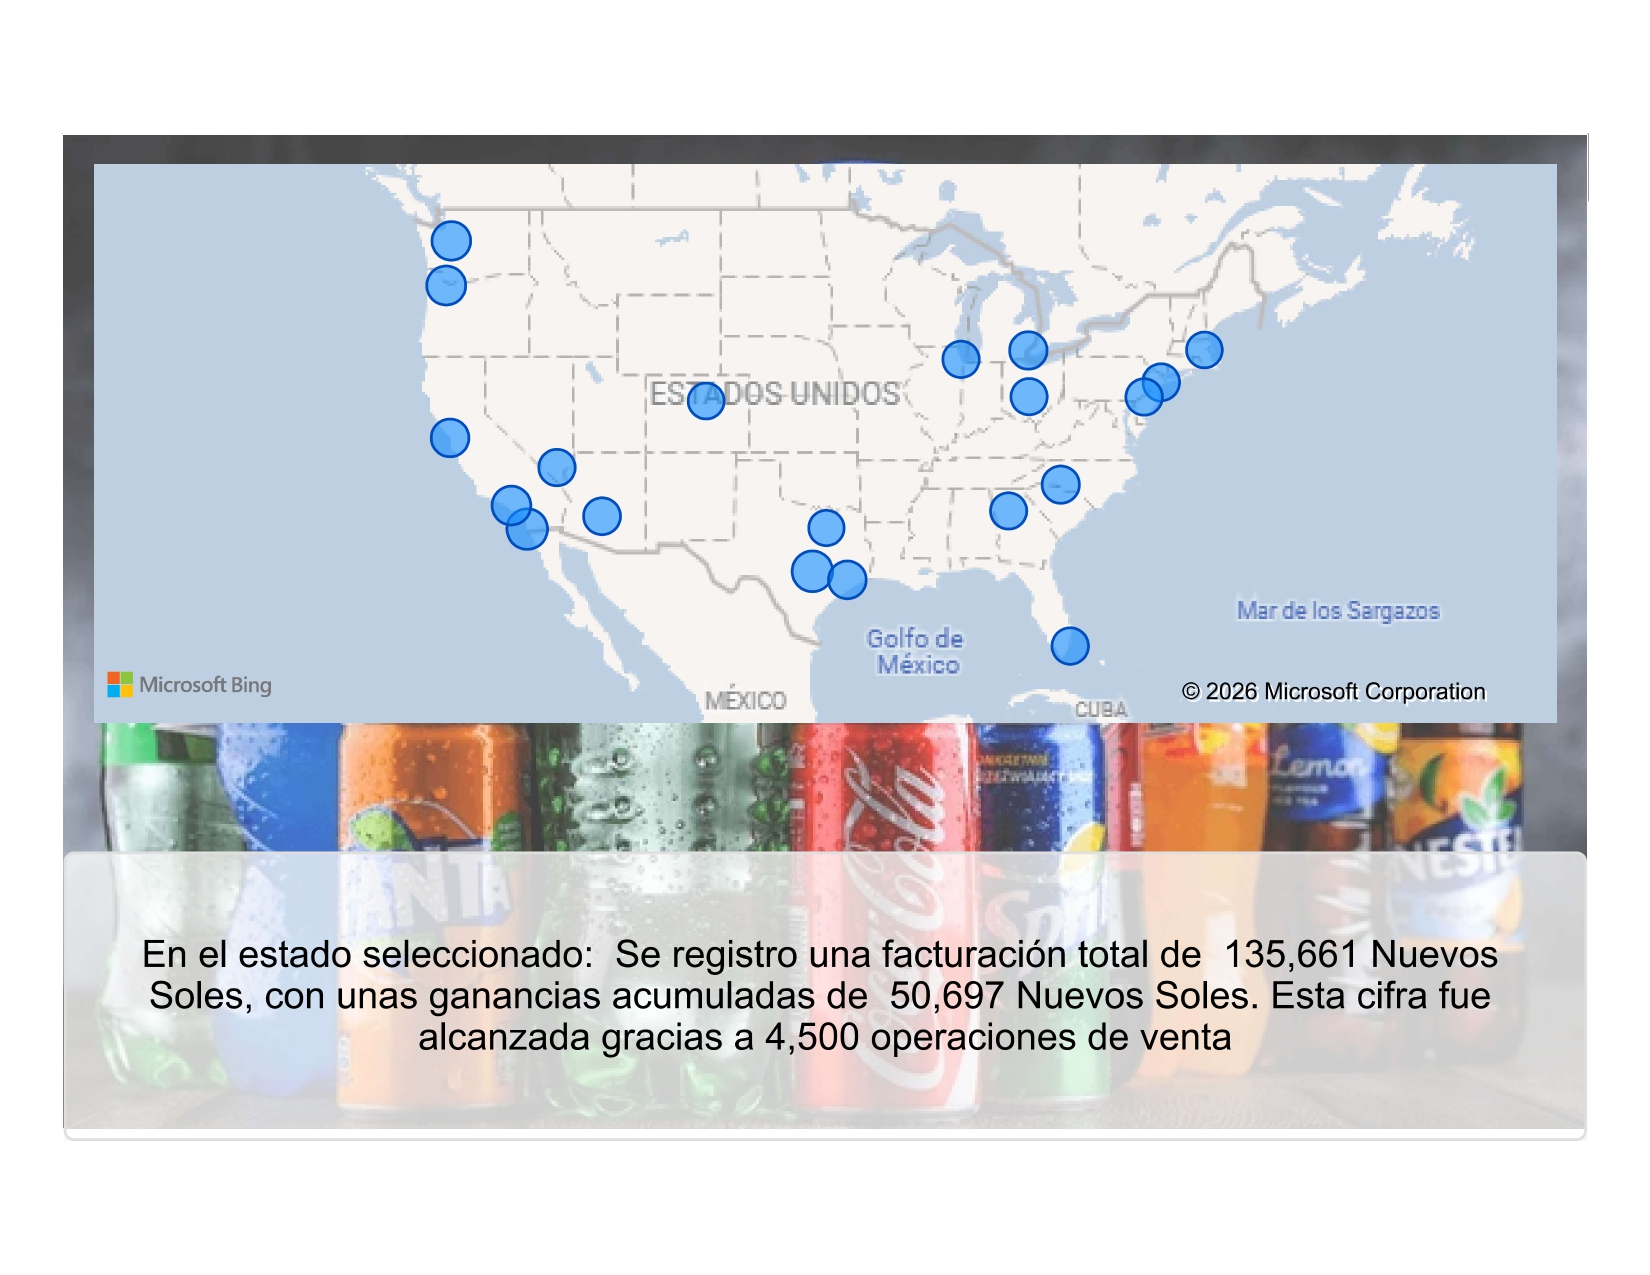

What the dashboard file says about the page in this screenshot:
{"tool":"powerbi","page":{"name":"Tooltips","canvas":[590,390],"ordinal":5},"visuals":[{"type":"pageNavigator","box":[8,682,615,29],"z":0},{"type":"card","fields":{"Values":["Tabla medidas.Mensaje tooltips"]},"box":[0,277.9,590,112.1],"z":1000},{"type":"map","fields":{"Category":["State.State","City.City"],"Size":["Tabla medidas.Facturación"]},"box":[0,0,590,277.9],"z":2000}]}

Visuals, with their boxes on the page's 590x390 design canvas (x1, y1, x2, y2). These are canvas units, not pixel positions in the 1650x1275 screenshot, which may show the page scaled, cropped or inside an application window:
pageNavigator: region(8, 682, 623, 711)
card - Tabla medidas.Mensaje tooltips: region(0, 278, 590, 390)
map - State.State x City.City: region(0, 0, 590, 278)
